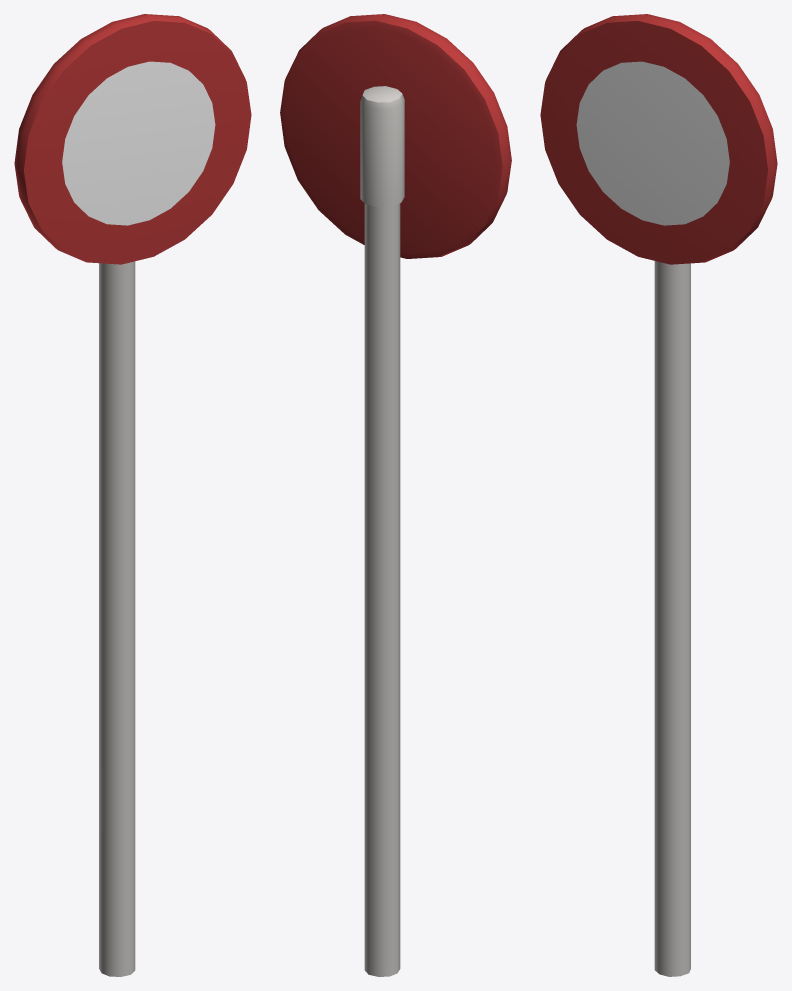
Rendered from SM_traffic_sign_02.fbx.
3 views of the same model, side by side, from view 1: azimuth 30°, elevation 25°; view 2: azimuth 150°, elevation 25°; view 3: azimuth 330°, elevation 25° (orthographic). The views are drawn at different scales.
Visible parts, largest first — view 1: Object32414; view 2: Object32414; view 3: Object32414.
Boxes of the visible parts, x1,y1,x2,y2 form: Object32414: [14, 14, 251, 976]; Object32414: [280, 14, 511, 976]; Object32414: [540, 14, 777, 976].
Bounding box in the file's own units: 31.52 × 125 × 7.43.
